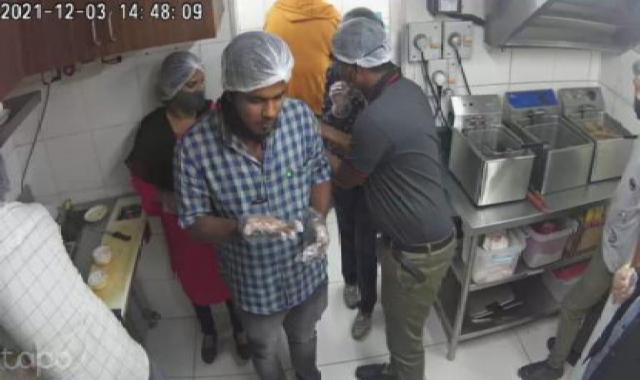hairnet: (218, 28, 302, 95), (324, 21, 395, 73), (145, 51, 211, 106), (343, 7, 381, 27)
